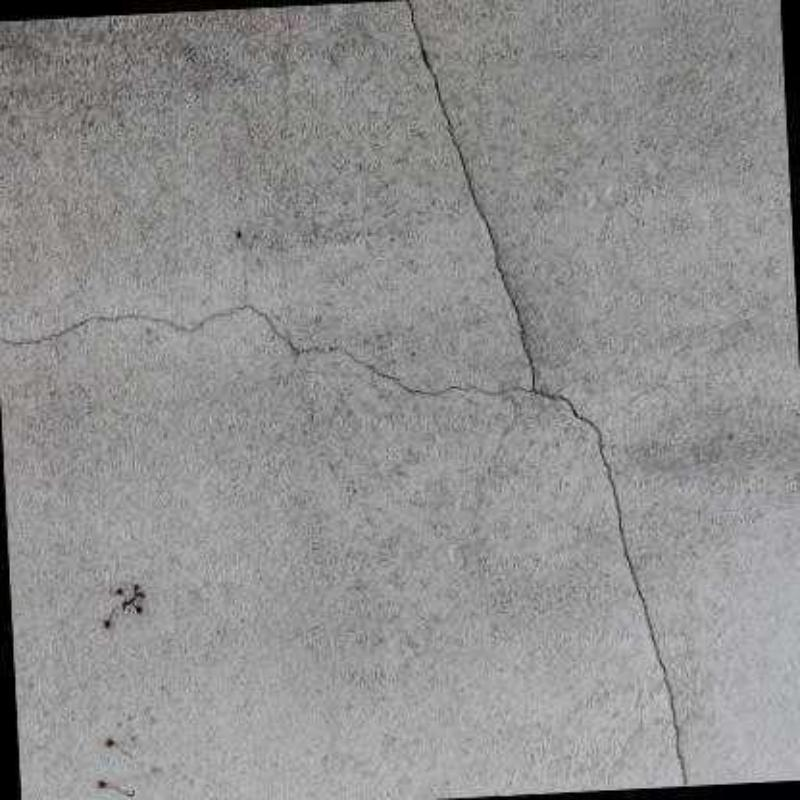pothole: (0, 0, 686, 786)
